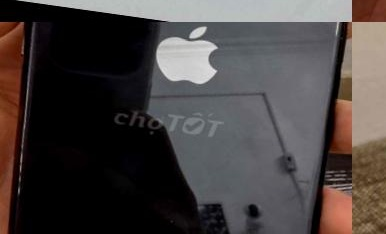scratch: (157, 198, 184, 234)
